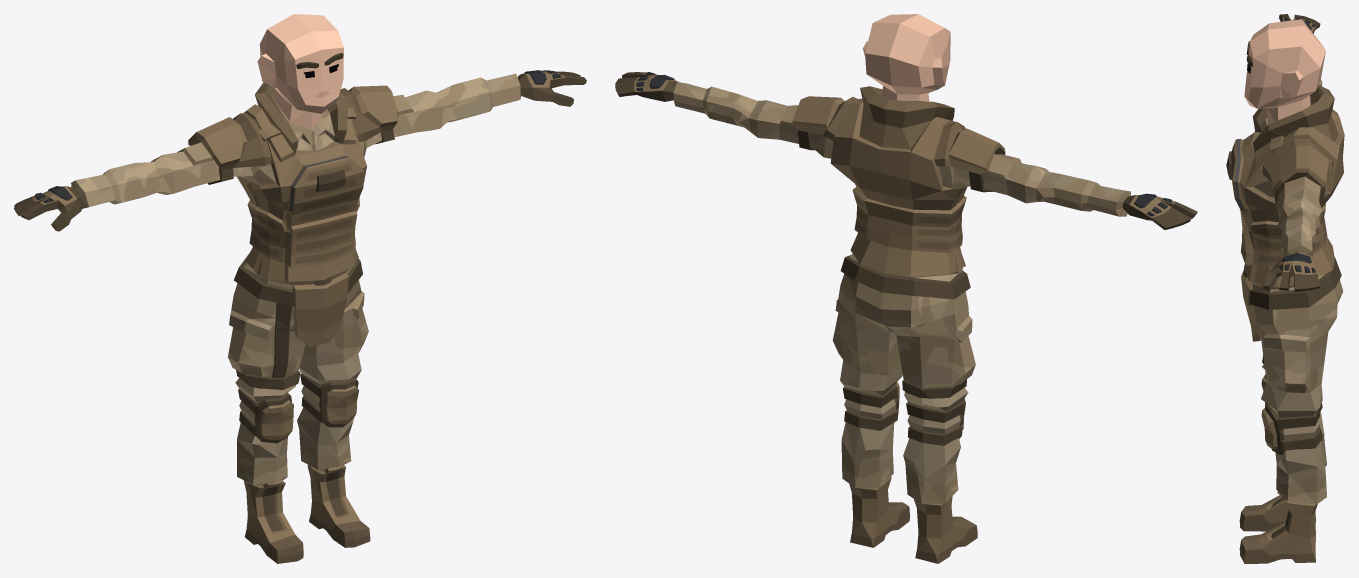
File: SM_Chr_Soldier_Female_01.fbx
3 renders of one model, left to right at view 1: azimuth 30°, elevation 25°; view 2: azimuth 150°, elevation 25°; view 3: azimuth 270°, elevation 25°, orthographic.
Visible parts, largest first — view 1: SM_Chr_Soldier_Female_01; view 2: SM_Chr_Soldier_Female_01; view 3: SM_Chr_Soldier_Female_01.
Boxes of the visible parts, x1=… form: SM_Chr_Soldier_Female_01: x1=14, y1=14, x2=586, y2=563; SM_Chr_Soldier_Female_01: x1=615, y1=14, x2=1197, y2=563; SM_Chr_Soldier_Female_01: x1=1226, y1=14, x2=1344, y2=563.
Bounding box in the file's own units: 204 × 179 × 37.18.
